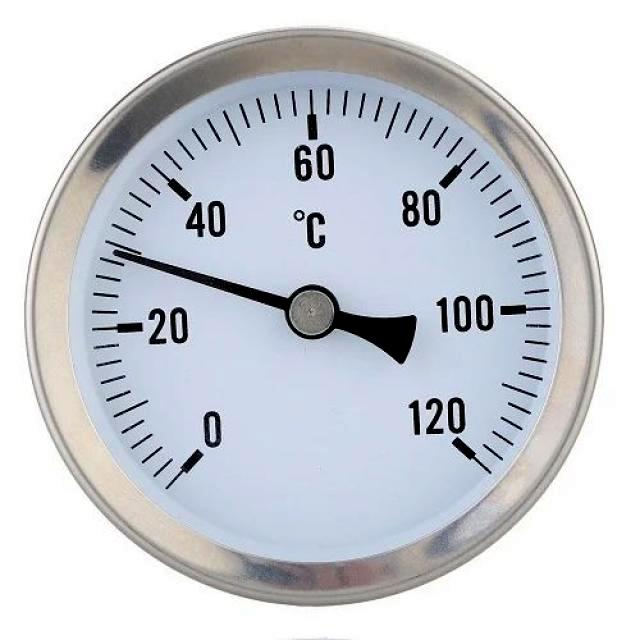Needle_Tip: (88, 240, 192, 284)
Needle_base: (280, 274, 345, 351)
max_value: (377, 387, 499, 461)
min_value: (179, 398, 243, 470)
